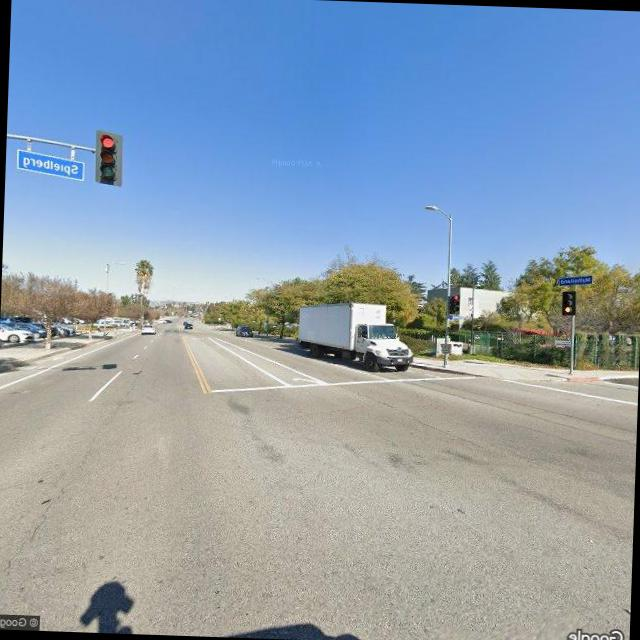pothole: (0, 477, 67, 608), (366, 395, 488, 449)
